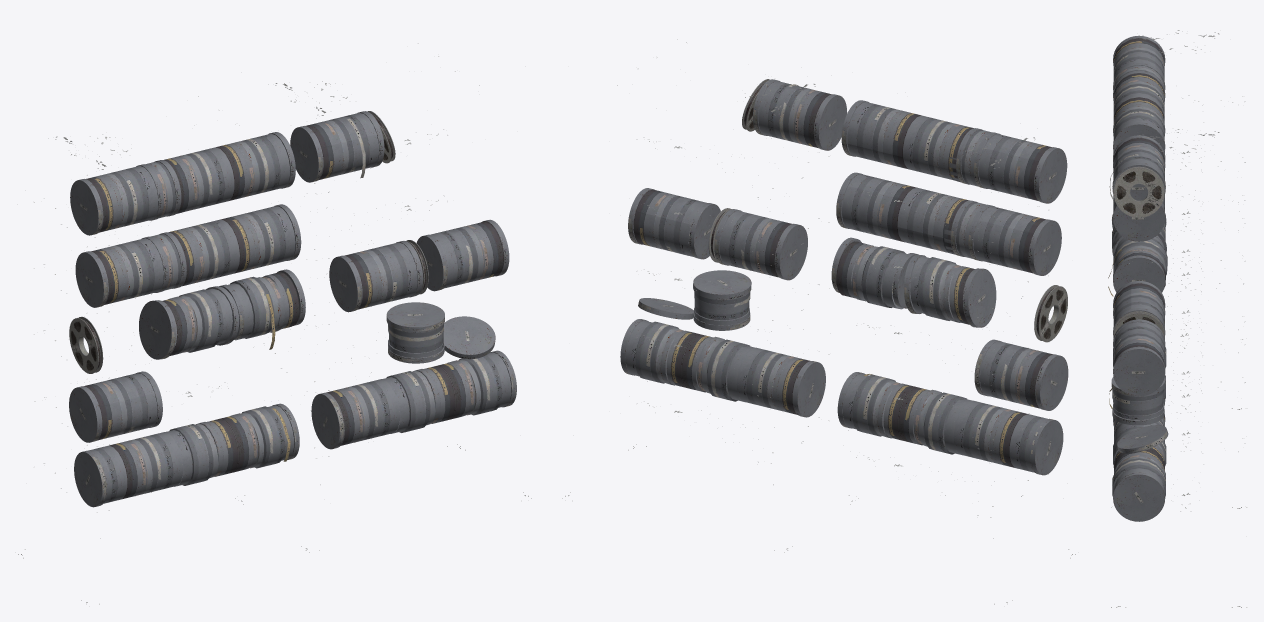
Rendered from sm39_023_filmandshelf01b.fbx.
The picture shows the model from 3 angles, left to right: view 1: azimuth 30°, elevation 25°; view 2: azimuth 150°, elevation 25°; view 3: azimuth 270°, elevation 25°; orthographic projection. The views are drawn at different scales.
Visible parts, largest first — view 1: LOD_1_Group_0_Sub_2__sm36_021_FilmReel01A_A_Mat; view 2: LOD_1_Group_0_Sub_2__sm36_021_FilmReel01A_A_Mat; view 3: LOD_1_Group_0_Sub_2__sm36_021_FilmReel01A_A_Mat, LOD_1_Group_0_Sub_1__sm30_048_IronShelf01A_A_Mat.
Part boxes in pixels (bbox=[...]): LOD_1_Group_0_Sub_2__sm36_021_FilmReel01A_A_Mat: bbox=[69, 111, 516, 507]; LOD_1_Group_0_Sub_2__sm36_021_FilmReel01A_A_Mat: bbox=[620, 79, 1068, 475]; LOD_1_Group_0_Sub_2__sm36_021_FilmReel01A_A_Mat: bbox=[1108, 35, 1168, 521]; LOD_1_Group_0_Sub_1__sm30_048_IronShelf01A_A_Mat: bbox=[1111, 30, 1246, 607].
Bounding box in the file's own units: 2.65 × 2.47 × 0.8.
